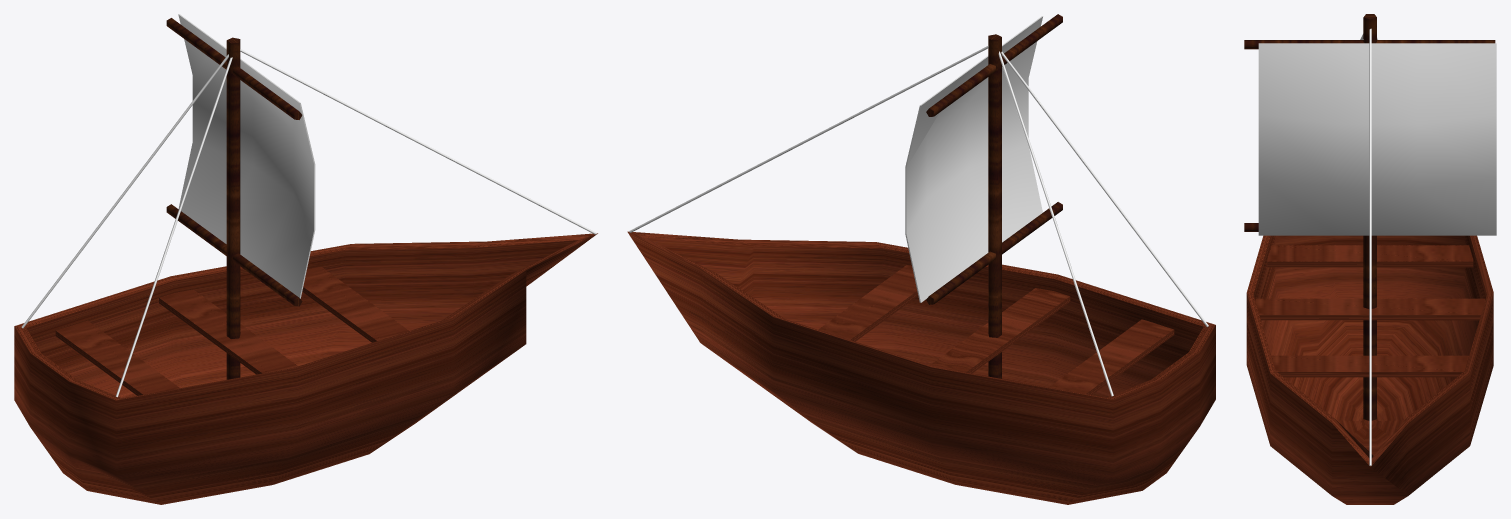
Rendered from Boat.FBX.
The picture shows the model from 3 angles, left to right: view 1: azimuth 30°, elevation 25°; view 2: azimuth 150°, elevation 25°; view 3: azimuth 270°, elevation 25°; orthographic projection. The views are drawn at different scales.
Visible parts, largest first — view 1: Sphere001, Plane001, Cylinder001, Box002, Box001, Box003, Cylinder003, Cylinder002, Cylinder004, Cylinder005, Cylinder006; view 2: Sphere001, Plane001, Cylinder001, Box002, Box001, Box003, Cylinder003, Cylinder002, Cylinder004, Cylinder006, Cylinder005; view 3: Plane001, Sphere001, Box002, Box001, Box003, Cylinder001, Cylinder004, Cylinder002.
Boxes of the visible parts, <box> form: Sphere001: <box>14,233,597,504</box>; Plane001: <box>178,14,315,298</box>; Cylinder001: <box>226,37,240,379</box>; Box002: <box>159,289,297,374</box>; Box001: <box>55,320,179,395</box>; Box003: <box>302,266,408,342</box>; Cylinder003: <box>166,204,302,306</box>; Cylinder002: <box>166,18,302,119</box>; Cylinder004: <box>240,49,596,234</box>; Cylinder005: <box>115,57,232,397</box>; Cylinder006: <box>21,54,228,328</box>; Sphere001: <box>627,231,1215,504</box>; Plane001: <box>905,16,1042,302</box>; Cylinder001: <box>988,34,1001,378</box>; Box002: <box>930,288,1070,373</box>; Box001: <box>1049,319,1174,394</box>; Box003: <box>818,265,918,341</box>; Cylinder003: <box>926,202,1062,304</box>; Cylinder002: <box>926,14,1062,116</box>; Cylinder004: <box>629,45,988,232</box>; Cylinder006: <box>998,51,1113,396</box>; Cylinder005: <box>1001,51,1208,326</box>; Plane001: <box>1258,43,1496,235</box>; Sphere001: <box>1246,235,1493,504</box>; Box002: <box>1255,298,1485,320</box>; Box001: <box>1267,245,1473,267</box>; Box003: <box>1271,355,1468,377</box>; Cylinder001: <box>1363,14,1376,420</box>; Cylinder004: <box>1369,28,1371,465</box>; Cylinder002: <box>1244,40,1495,49</box>.
Bounding box in the file's own units: 97.21 × 70.77 × 39.45.
